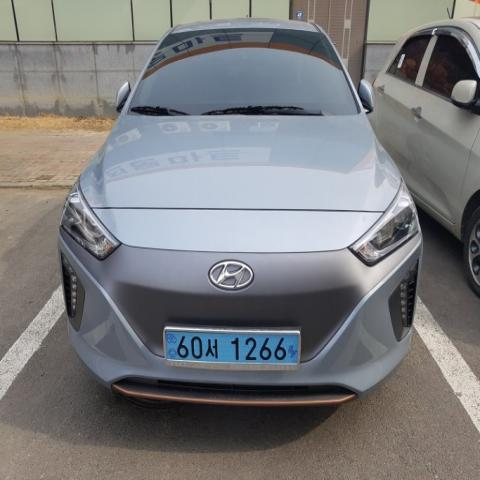LP: (154, 319, 310, 381)
